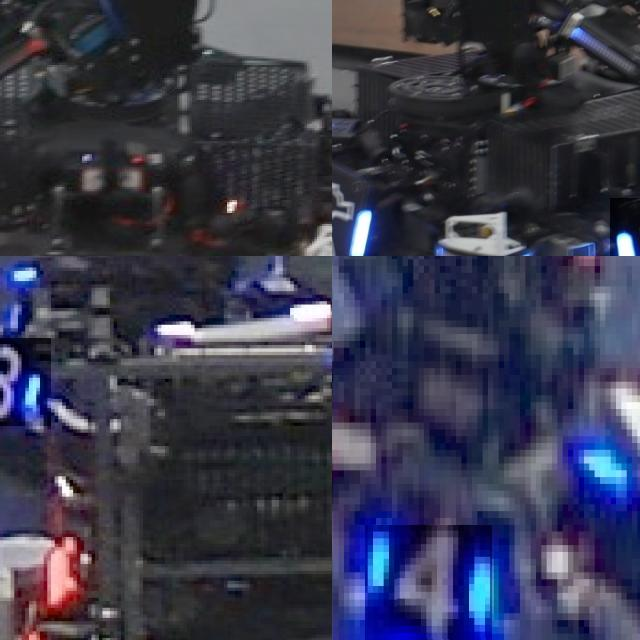B3: (0, 338, 50, 425)
B4: (365, 524, 493, 640)
Bs: (332, 171, 371, 256)
